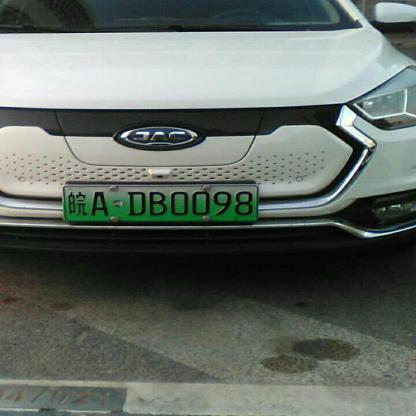lp: (64, 185, 257, 220)
